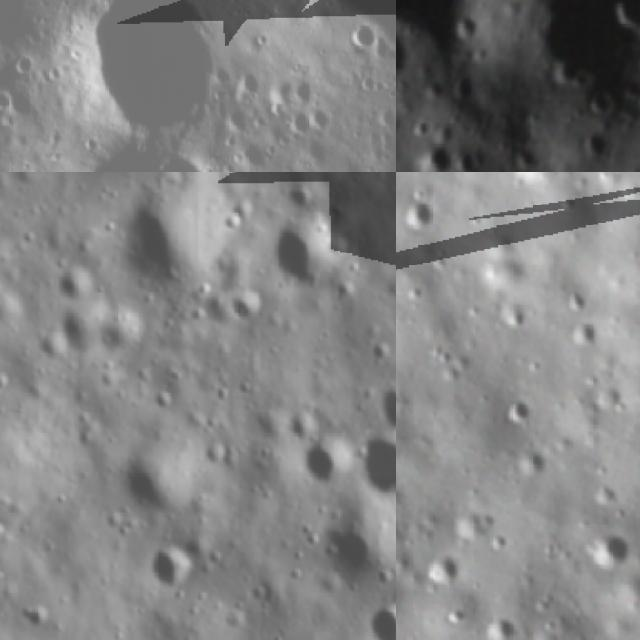crater: (117, 172, 211, 288), (267, 210, 356, 296), (118, 433, 196, 522), (317, 511, 396, 588), (44, 311, 108, 368), (90, 304, 150, 362), (352, 428, 396, 507), (298, 430, 353, 492), (143, 541, 203, 592), (584, 523, 635, 574), (53, 258, 99, 313), (225, 284, 267, 330), (345, 12, 382, 64), (14, 592, 55, 638), (396, 191, 445, 229), (423, 550, 464, 594), (360, 597, 396, 640), (373, 378, 396, 437), (506, 172, 575, 191), (446, 10, 484, 42), (584, 88, 618, 122), (604, 0, 640, 29), (0, 513, 14, 547)
